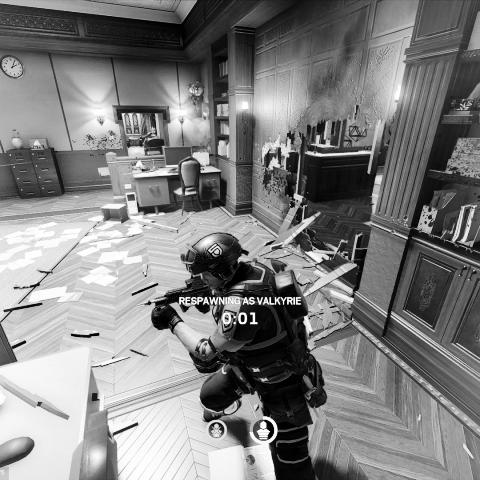Character: (141, 227, 331, 480)
Head: (181, 231, 248, 291)
